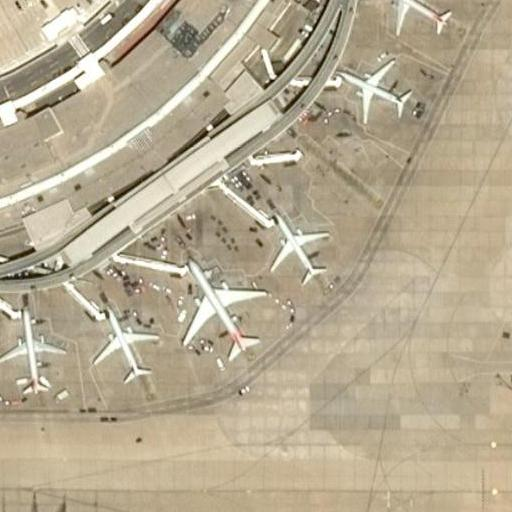Aircraft: (183, 262, 262, 358), (0, 316, 67, 391), (94, 314, 158, 383), (267, 215, 327, 287), (336, 60, 414, 115), (367, 0, 460, 36)
